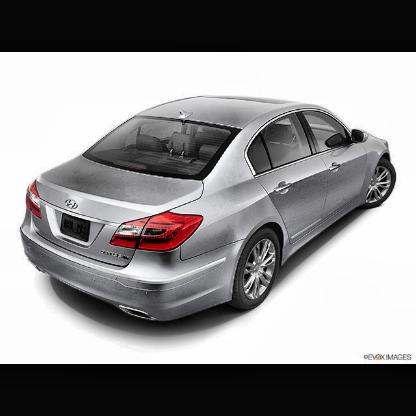Hyundai Genesis Sedan 2012: (19, 96, 399, 334)
